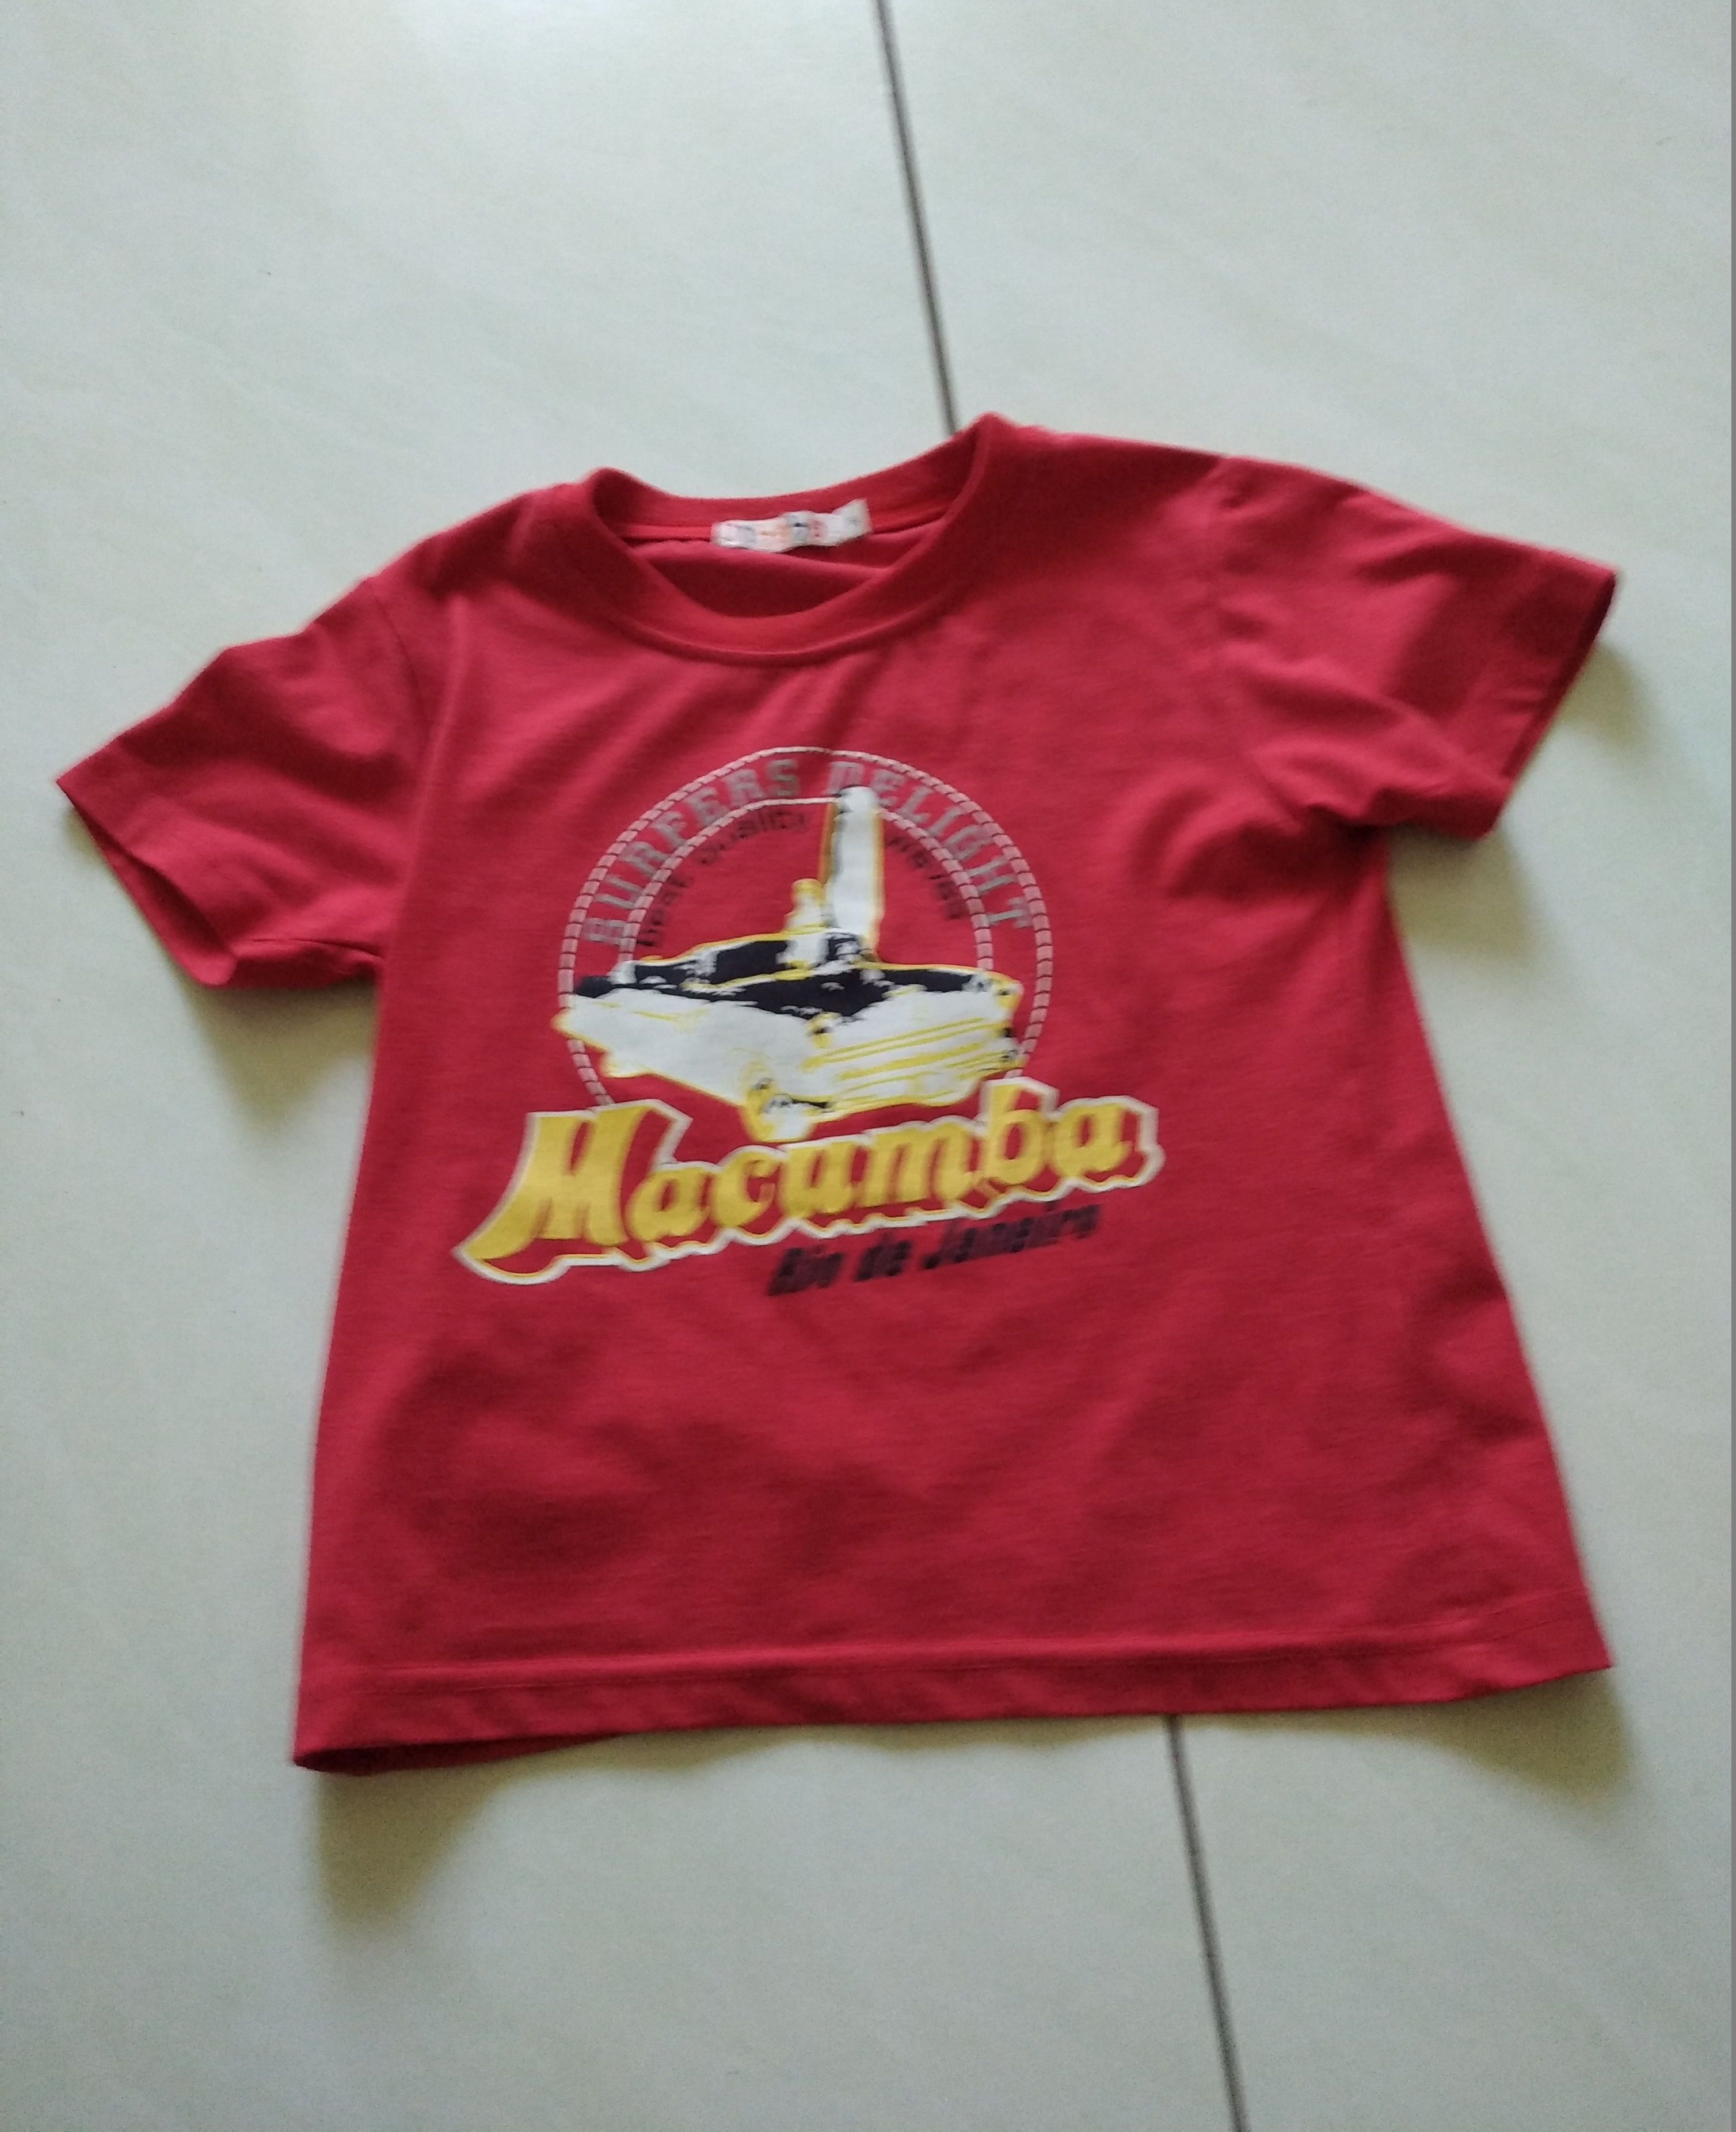clothes: (64, 423, 1617, 1689)
